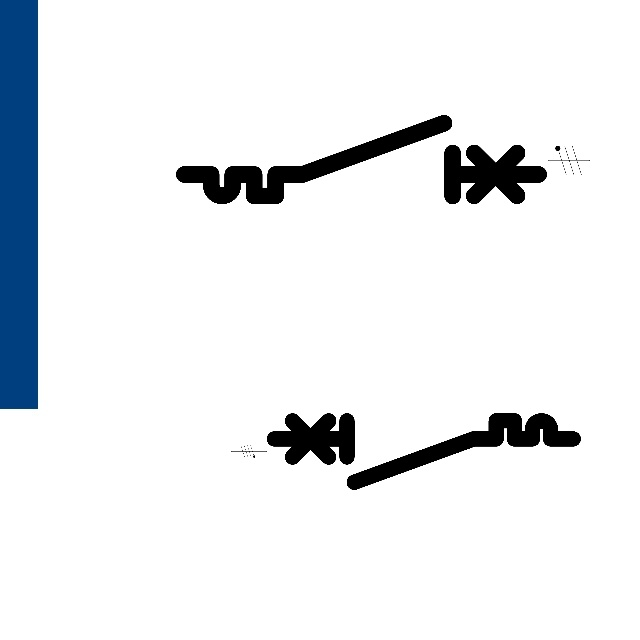interruptor_termomagnetico: (175, 114, 547, 205), (266, 413, 580, 490)
